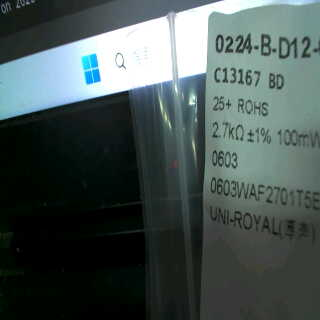2.7kR: (207, 121, 246, 145)
